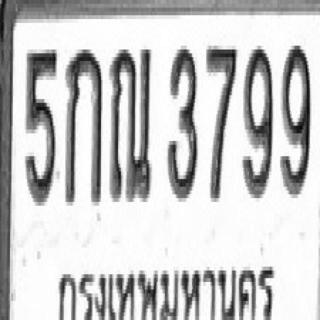A01: (64, 44, 102, 204)
A19: (108, 44, 152, 204)
N03: (166, 44, 198, 200)
N05: (25, 46, 56, 206)
N07: (206, 42, 237, 202)
N09: (242, 42, 273, 198), (280, 42, 310, 194)
P04: (53, 242, 278, 320)
